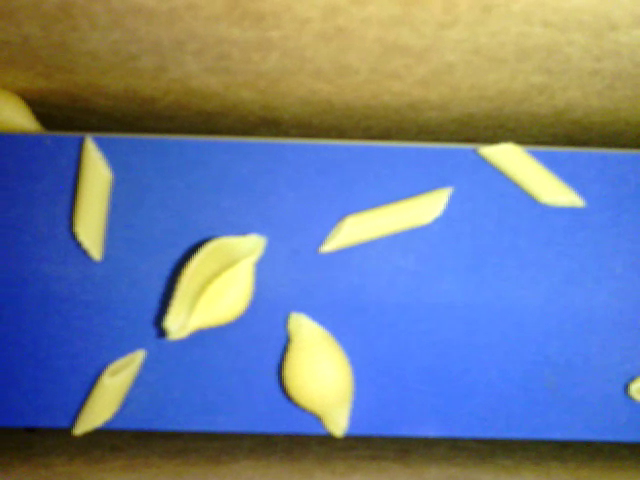penne: (319, 186, 453, 254), (475, 141, 585, 206), (72, 348, 145, 434), (74, 133, 113, 262)
shell: (161, 234, 264, 341), (280, 310, 354, 436)
